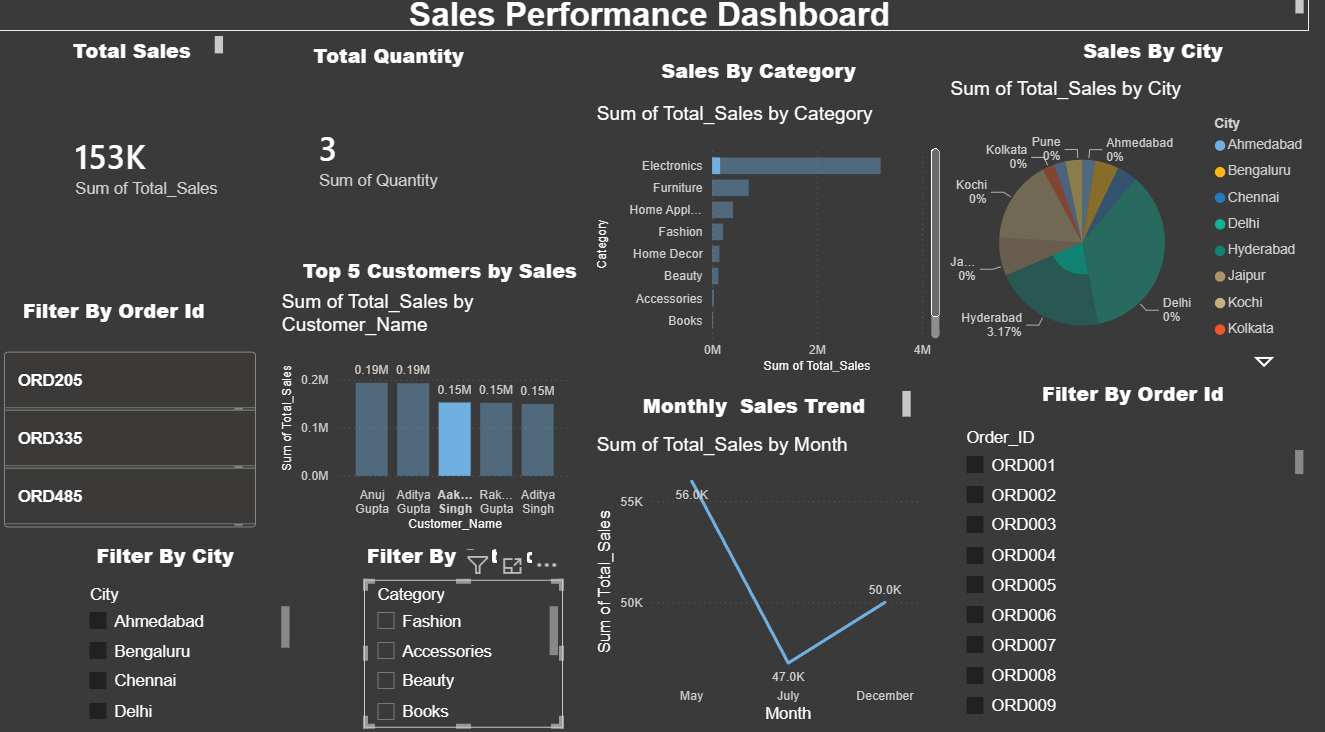

The dashboard page shown, as its layout file describes it:
{"tool":"powerbi","page":{"name":"Page 1","canvas":[1280,720],"ordinal":0},"visuals":[{"type":"cardVisual","fields":{"Data":["Sum(Total_sales.Total_Sales)"]},"box":[43.8,75,210,185],"z":0},{"type":"cardVisual","fields":{"Rows":["Total_sales.Order_ID"]},"box":[0,323.2,253.6,221.1],"z":1000},{"type":"cardVisual","fields":{"Data":["Sum(Total_sales.Quantity)"]},"box":[278.8,92.9,223.8,134.5],"z":2000},{"type":"barChart","fields":{"Category":["Total_sales.Category"],"Y":["Sum(Total_sales.Total_Sales)"]},"box":[572.3,107.6,341.2,265.4],"z":3000},{"type":"lineChart","fields":{"Y":["Sum(Total_sales.Total_Sales)"],"Category":["Total_sales.Order_Date.Variation.Date Hierarchy.Month"]},"box":[572.3,426.8,327.7,283.7],"z":4000},{"type":"pieChart","fields":{"Category":["Total_sales.City","Total_sales.Order_Date.Variation.Date Hierarchy.Year","Total_sales.Order_Date.Variation.Date Hierarchy.Month","Total_sales.Customer_Name","Total_sales.Payment_Method"],"Y":["Sum(Total_sales.Total_Sales)"]},"box":[913.5,83.2,359.5,287.4],"z":5000},{"type":"slicer","fields":{"Values":["Total_sales.City"]},"box":[74.6,568.6,210.3,139.4],"z":6000},{"type":"slicer","fields":{"Values":["Total_sales.Category"]},"box":[352.2,568.6,192,141.8],"z":7000},{"type":"slicer","fields":{"Values":["Total_sales.Order_ID"]},"box":[920.8,417,343.6,293.5],"z":8000},{"type":"textbox","box":[0,0,1263.8,38.4],"z":9000},{"type":"textbox","box":[43.8,38.8,177.5,36.2],"z":10000},{"type":"textbox","box":[267.8,44,216.4,48.9],"z":11000},{"type":"textbox","box":[336.3,525.8,222.6,37.9],"z":12000},{"type":"textbox","box":[74.6,525.8,171.2,37.9],"z":13000},{"type":"textbox","box":[582.1,381.5,303.3,35.5],"z":14000},{"type":"textbox","box":[582.1,57.5,303.3,50.1],"z":15000},{"type":"textbox","box":[962.4,39.1,302,44],"z":16000},{"type":"textbox","box":[941.6,370.5,306.9,46.5],"z":17000},{"type":"textbox","box":[0,289.8,221.3,42.8],"z":18000},{"type":"clusteredColumnChart","fields":{"Y":["Sum(Total_sales.Total_Sales)"],"Category":["Total_sales.Customer_Name"]},"box":[267.8,289.8,289.8,236],"z":19000},{"type":"textbox","box":[278.3,250.5,293.8,49.5],"z":20000}]}

Visuals, with their boxes in screenshot pixels (x1, y1, x2, y2), scaled from the page's 1280x720 canvas onto the 1325x732 screenshot:
cardVisual - Sum(Total_sales.Total_Sales): (x1=45, y1=76, x2=263, y2=264)
cardVisual - Total_sales.Order_ID: (x1=0, y1=329, x2=263, y2=553)
cardVisual - Sum(Total_sales.Quantity): (x1=289, y1=94, x2=520, y2=231)
barChart - Total_sales.Category x Sum(Total_sales.Total_Sales): (x1=592, y1=109, x2=946, y2=379)
lineChart - Sum(Total_sales.Total_Sales) x Total_sales.Order_Date.Variation.Date Hierarchy.Month: (x1=592, y1=434, x2=932, y2=722)
pieChart - Total_sales.City x Total_sales.Order_Date.Variation.Date Hierarchy.Year: (x1=946, y1=85, x2=1318, y2=377)
slicer - Total_sales.City: (x1=77, y1=578, x2=295, y2=720)
slicer - Total_sales.Category: (x1=365, y1=578, x2=563, y2=722)
slicer - Total_sales.Order_ID: (x1=953, y1=424, x2=1309, y2=722)
textbox: (x1=0, y1=0, x2=1308, y2=39)
textbox: (x1=45, y1=39, x2=229, y2=76)
textbox: (x1=277, y1=45, x2=501, y2=94)
textbox: (x1=348, y1=535, x2=579, y2=573)
textbox: (x1=77, y1=535, x2=254, y2=573)
textbox: (x1=603, y1=388, x2=917, y2=424)
textbox: (x1=603, y1=58, x2=917, y2=109)
textbox: (x1=996, y1=40, x2=1309, y2=84)
textbox: (x1=975, y1=377, x2=1292, y2=424)
textbox: (x1=0, y1=295, x2=229, y2=338)
clusteredColumnChart - Sum(Total_sales.Total_Sales) x Total_sales.Customer_Name: (x1=277, y1=295, x2=577, y2=535)
textbox: (x1=288, y1=255, x2=592, y2=305)
